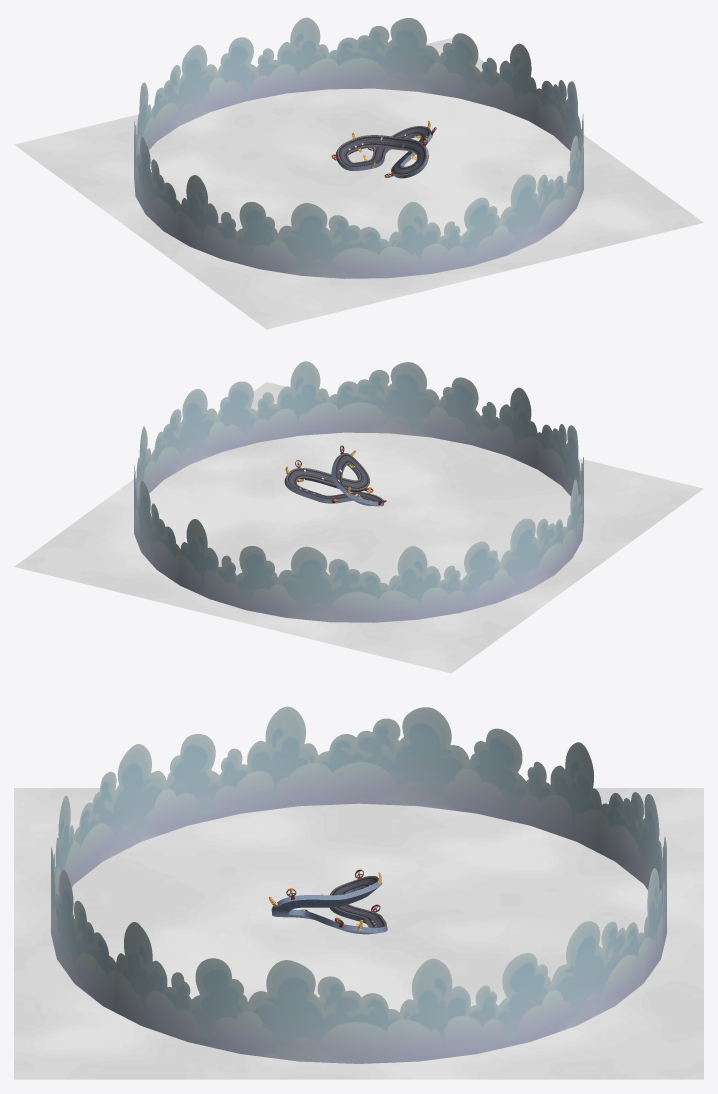
File: v8skyway.fbx
3 renders of one model, top to bottom at view 1: azimuth 30°, elevation 25°; view 2: azimuth 150°, elevation 25°; view 3: azimuth 270°, elevation 25°, orthographic. The views are drawn at different scales.
Visible parts, largest first — view 1: Cloudscape, Clouds, Curve; view 2: Cloudscape, Clouds, Curve; view 3: Cloudscape, Clouds, Curve.
Part boxes in pixels (x1,y1,x2,y2): Cloudscape: (14,38,703,329); Clouds: (134,17,583,278); Curve: (335,126,432,178); Cloudscape: (14,382,703,673); Clouds: (134,361,583,622); Curve: (284,453,383,506); Cloudscape: (14,788,703,1079); Clouds: (51,706,666,1063); Curve: (271,876,387,934).
Size of what is drawn, in the model's own units: 255000 by 45149 by 255000.
9 materials, 7 textured.
